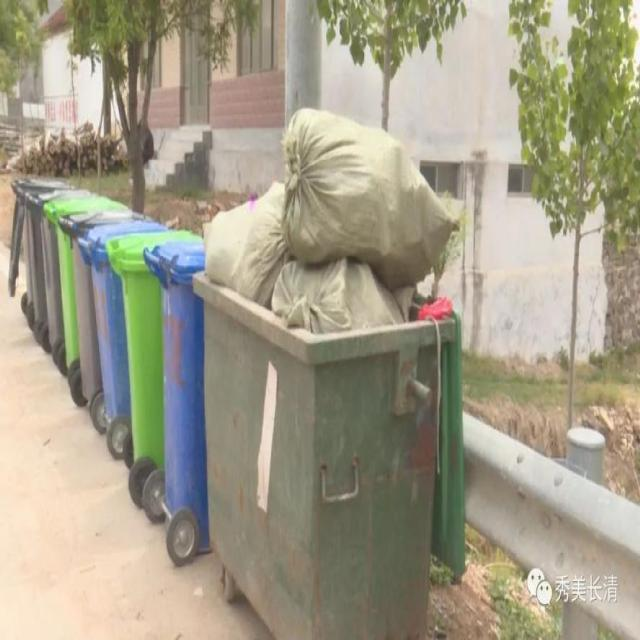garbage_bin: (106, 229, 200, 470), (143, 242, 210, 546), (77, 220, 167, 419), (59, 210, 146, 401), (44, 195, 129, 368), (11, 178, 63, 356)
overflow: (193, 106, 467, 639)
